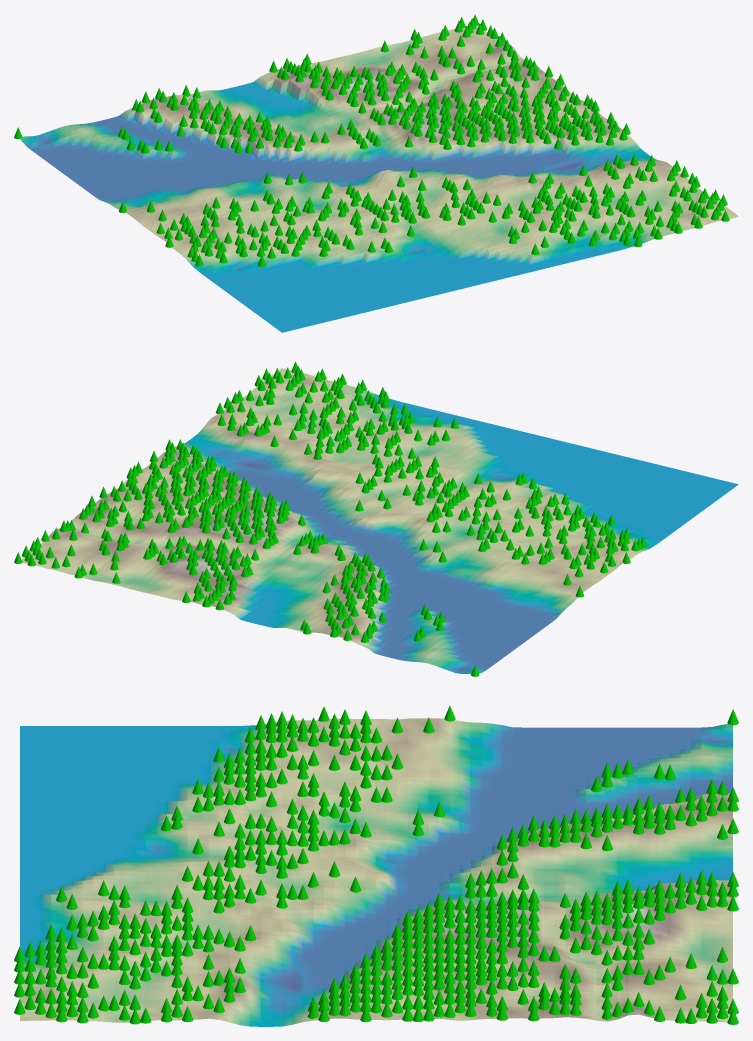
File: 002301_with_tree.glb
3 views of the same model, one above another, from view 1: azimuth 30°, elevation 25°; view 2: azimuth 150°, elevation 25°; view 3: azimuth 270°, elevation 25° (orthographic). The views are drawn at different scales.
Parts seen in each view (by area): view 1: terrain, trees; view 2: terrain, trees; view 3: terrain, trees.
Boxes of the visible parts, x1=… form: terrain: x1=20, y1=26, x2=738, y2=332; trees: x1=14, y1=14, x2=729, y2=266; terrain: x1=22, y1=368, x2=738, y2=674; trees: x1=14, y1=361, x2=647, y2=676; terrain: x1=20, y1=718, x2=732, y2=1026; trees: x1=14, y1=705, x2=738, y2=1024.
Size of the model in its own units: 0.0186 by 0.000879 by 0.0186.
